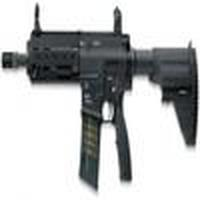gun: (2, 28, 200, 147)
